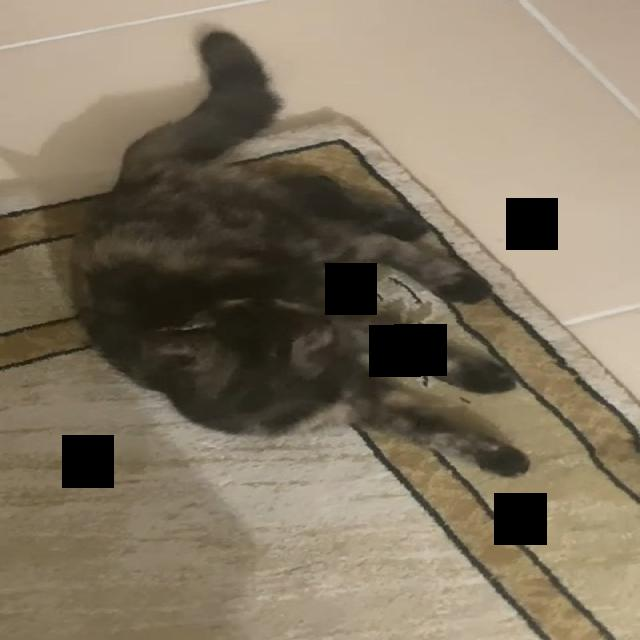authorized: (67, 22, 532, 478)
